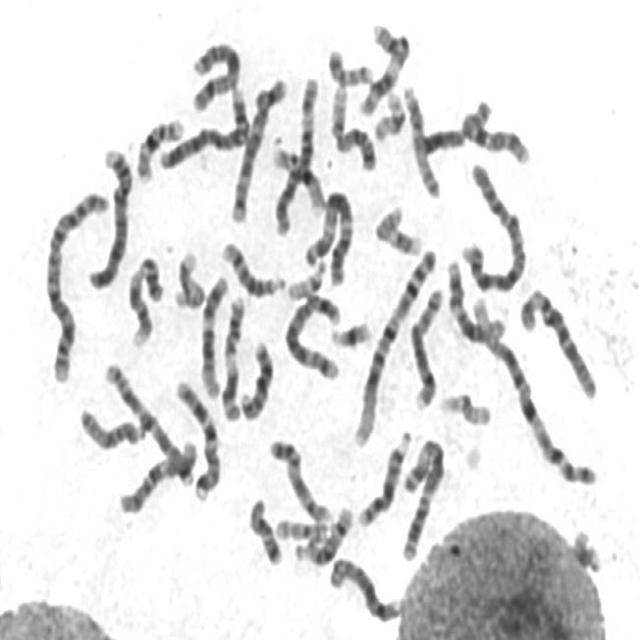A1: (466, 284, 601, 489), (348, 241, 442, 449)
A2: (40, 182, 111, 386), (457, 155, 528, 293)
A3: (396, 429, 448, 562), (298, 181, 358, 289)
B4: (153, 82, 252, 172), (82, 139, 134, 290)
B5: (226, 70, 290, 224), (280, 284, 344, 382)
C10: (113, 430, 200, 516), (455, 94, 533, 166)
C11: (353, 15, 412, 117), (216, 287, 249, 422)
C12: (442, 251, 508, 343), (195, 268, 231, 401)
C6: (515, 279, 601, 402), (269, 68, 321, 237)
C7: (99, 356, 197, 488), (170, 372, 224, 504)
C8: (324, 550, 402, 625), (406, 279, 446, 411)
C9: (265, 432, 334, 527), (123, 246, 167, 348)
D13: (354, 422, 414, 530), (234, 332, 276, 422)
D14: (290, 498, 356, 568), (217, 233, 288, 298)
D15: (398, 78, 442, 198), (75, 400, 147, 452)
E16: (267, 136, 327, 215), (132, 110, 186, 184)
E17: (370, 199, 425, 257), (170, 242, 207, 312)
E18: (243, 490, 284, 568), (336, 122, 376, 178)
F19: (435, 384, 495, 429), (369, 84, 407, 143)
F20: (322, 40, 376, 87), (271, 511, 331, 543)
G21: (567, 522, 606, 576), (326, 312, 374, 350)
G22: (283, 251, 329, 302), (328, 80, 350, 138)
X: (186, 34, 243, 114)
Y: (412, 121, 466, 155)
